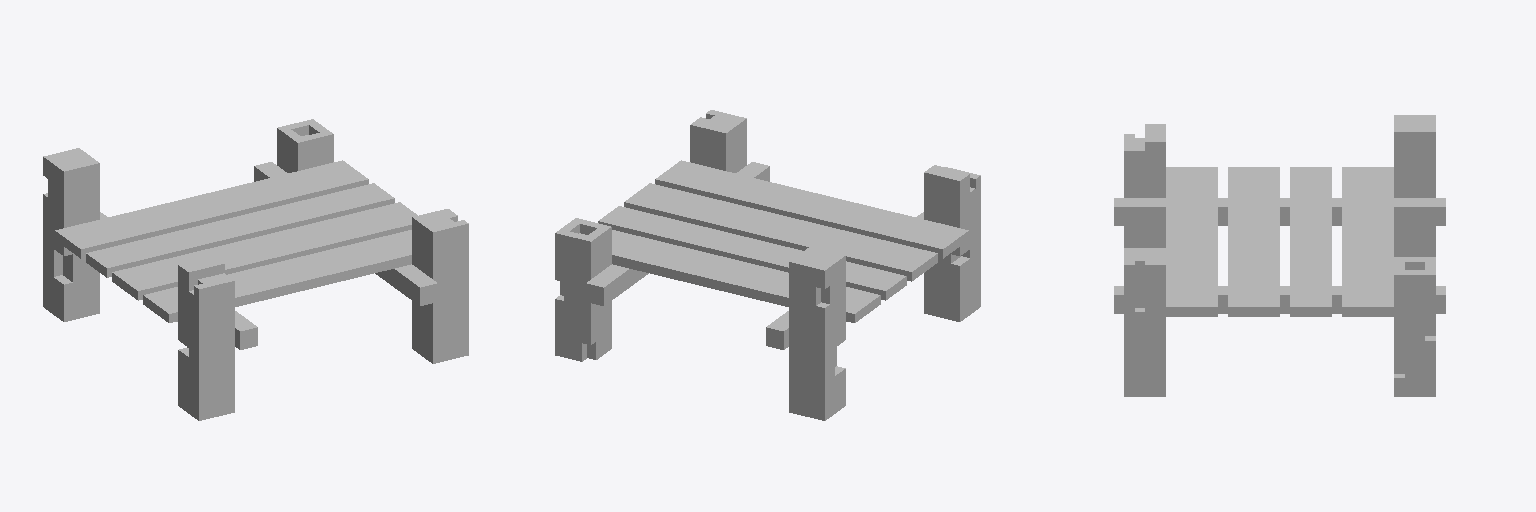
The model's file is floor.obj.
3 renders of one model, left to right at view 1: azimuth 30°, elevation 25°; view 2: azimuth 150°, elevation 25°; view 3: azimuth 270°, elevation 25°, orthographic.
Visible parts, largest first — view 1: object 1; view 2: object 1; view 3: object 1.
Boxes of the visible parts, x1=… form: object 1: x1=43, y1=119, x2=468, y2=420; object 1: x1=555, y1=110, x2=980, y2=420; object 1: x1=1114, y1=115, x2=1445, y2=396.
Bounding box in the file's own units: 3.2 × 1.6 × 3.2.